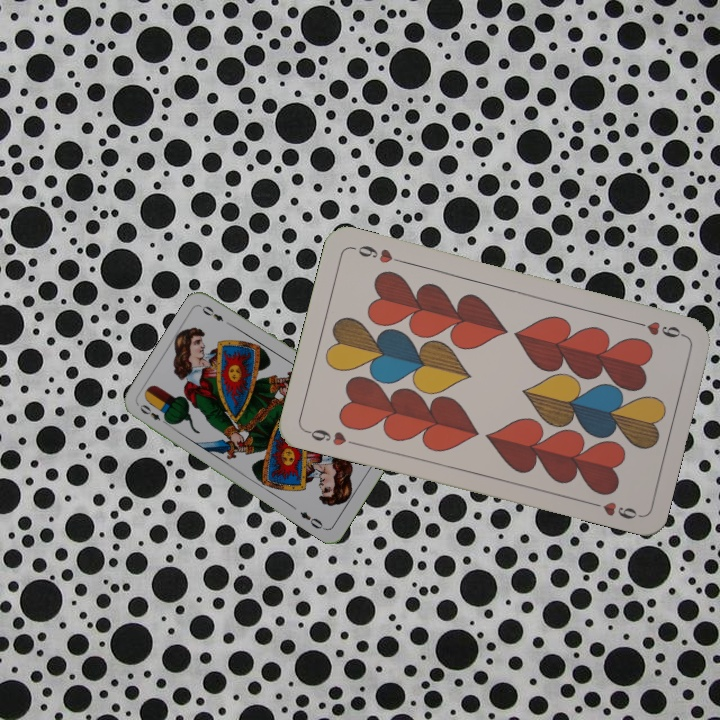EO: (135, 400, 172, 428)
H9: (629, 316, 687, 341), (302, 425, 360, 449)
